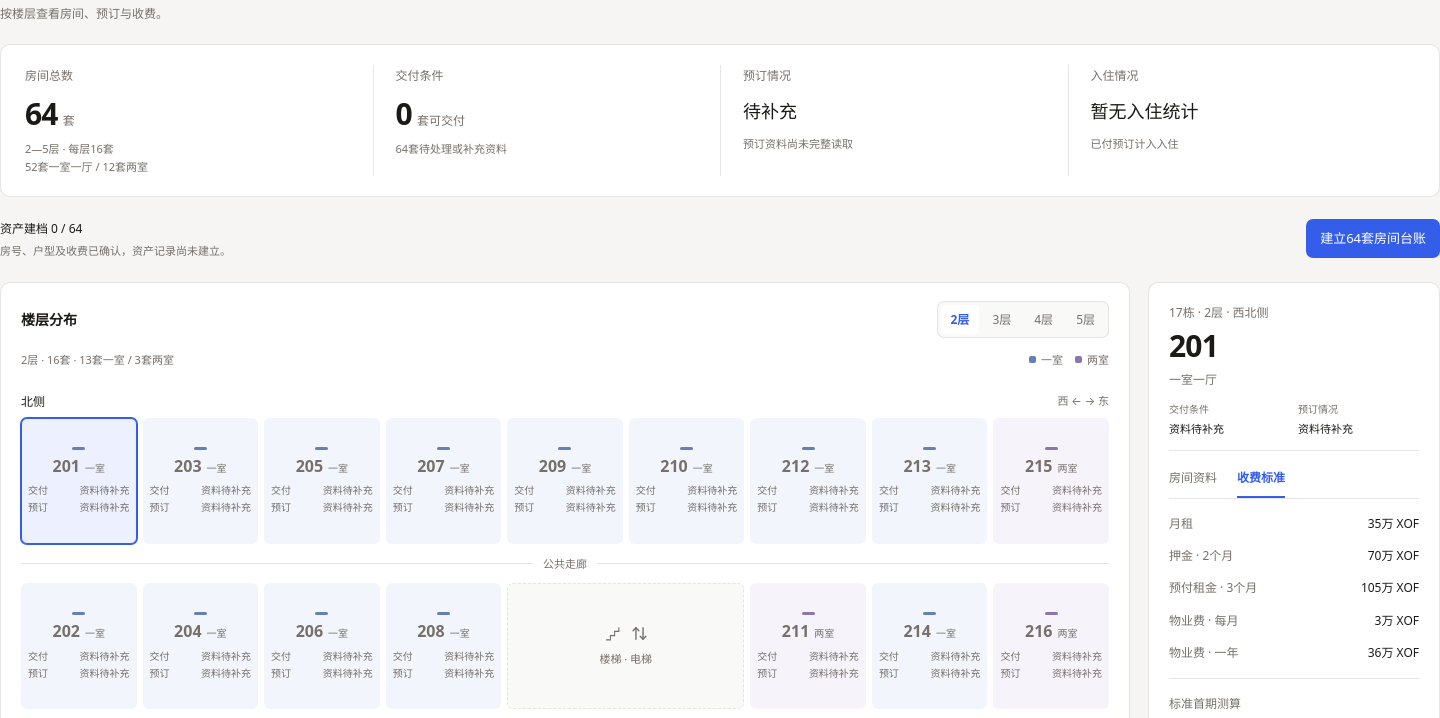
Test: CIMAC apartment workbench › calculates rent, two-month deposit, three-month prepayment and an entire year of fees independently of actual accounts
Click the button "216 两室 交付 资料待补充 预订 资料待补充" at (1051, 646), box [993,584,1109,710]
(page scrolled)
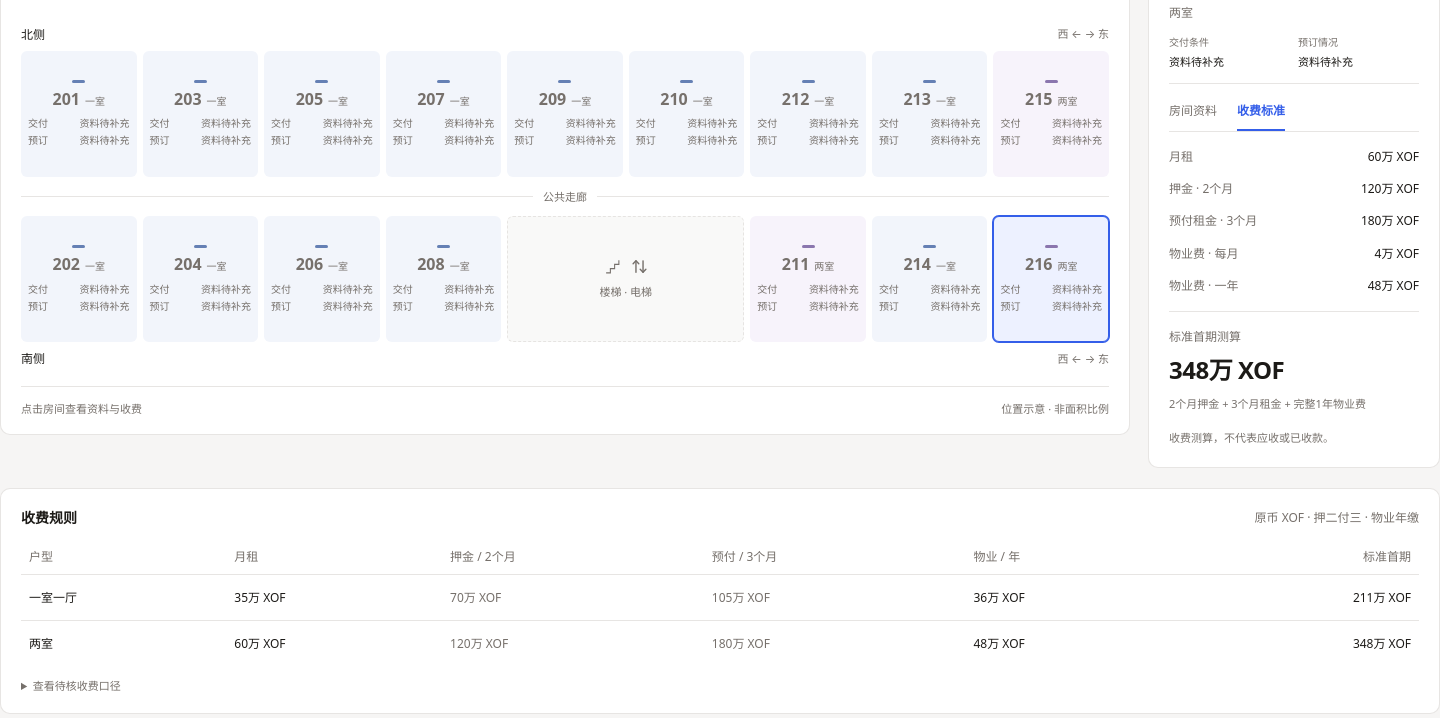
Expected: the text "原币 XOF · 押二付三 · 物业年缴" is shown, [1255,508,1419,527]
Now the text with test id "apartment-initial-total" reads "348万 XOF", box [1169,353,1284,386]
